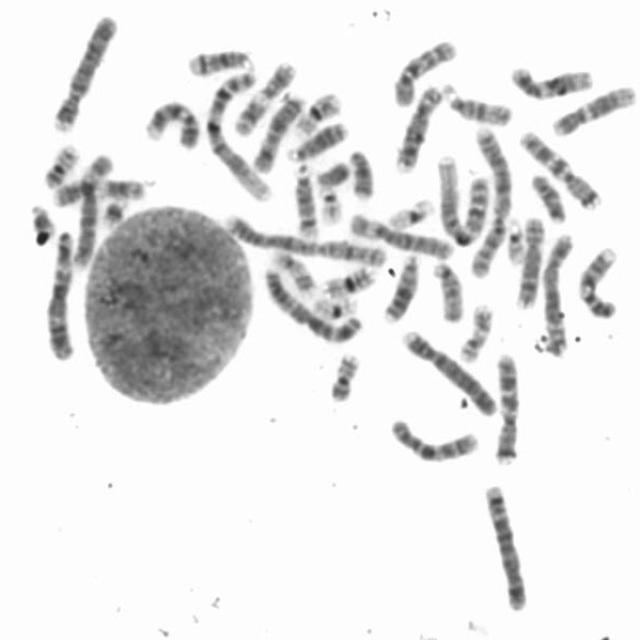A1: (200, 68, 273, 204), (433, 151, 490, 249)
A2: (219, 210, 388, 269), (465, 124, 514, 280)
A3: (260, 262, 366, 346), (41, 225, 77, 363)
B4: (398, 326, 498, 418), (49, 11, 118, 134)
B5: (480, 481, 529, 611), (539, 229, 576, 357)
C10: (386, 413, 481, 465), (389, 36, 457, 108)
C11: (230, 58, 298, 138), (50, 174, 146, 208)
C12: (547, 82, 637, 137), (507, 61, 594, 102)
C6: (345, 209, 454, 260), (70, 149, 114, 268)
C7: (516, 126, 603, 212), (490, 348, 520, 466)
C8: (392, 82, 445, 174), (513, 214, 547, 310)
C9: (575, 244, 621, 320), (141, 96, 201, 151)
D13: (379, 250, 421, 326), (282, 117, 349, 164)
D14: (290, 158, 320, 240), (182, 46, 258, 78)
D15: (440, 80, 514, 127), (429, 257, 466, 324)
E16: (291, 90, 342, 137), (318, 261, 378, 300)
E17: (454, 300, 495, 364), (267, 247, 319, 297)
E18: (528, 169, 567, 224), (345, 146, 375, 202)
F19: (383, 195, 436, 231), (309, 293, 361, 320)
F20: (325, 350, 362, 403), (40, 141, 80, 189)
G21: (96, 194, 130, 229), (28, 204, 56, 237)
G22: (315, 183, 345, 226), (504, 215, 526, 266)
X: (249, 91, 306, 175)
Y: (313, 158, 351, 188)
